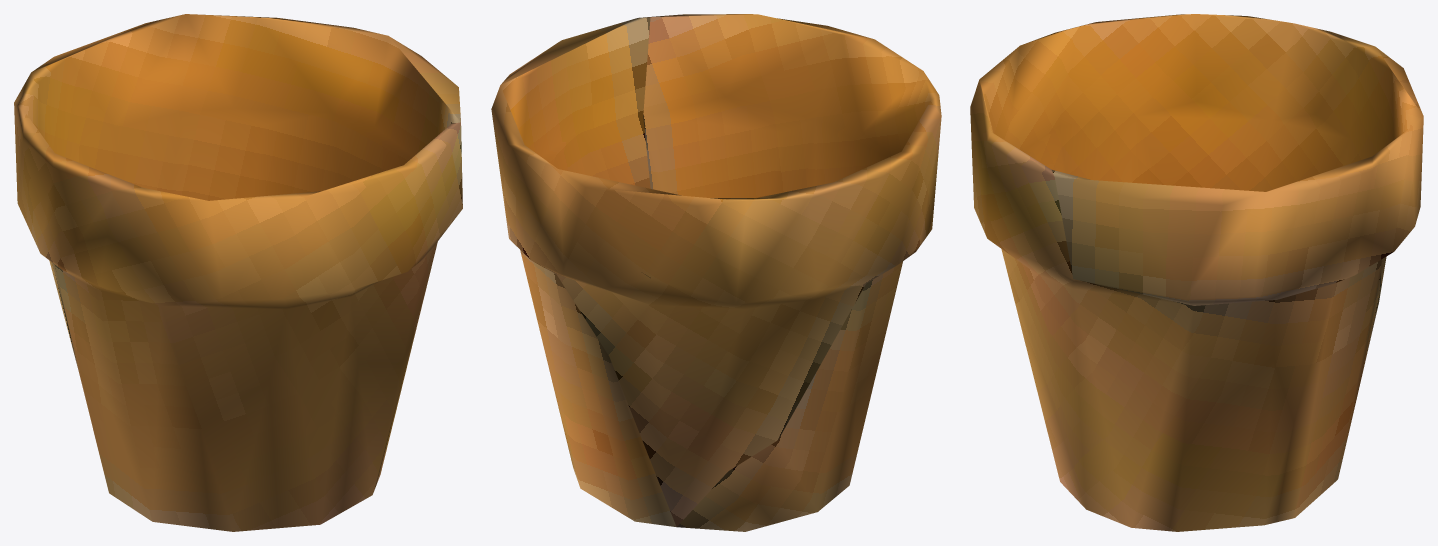
The model's file is Cole_Hardware_Electric_Pot_Cabana_55-low.glb.
3 renders of one model, left to right at view 1: azimuth 30°, elevation 25°; view 2: azimuth 150°, elevation 25°; view 3: azimuth 270°, elevation 25°, orthographic.
Parts seen in each view (by area): view 1: Cole_Hardware_Electric_Pot_Cabana_55; view 2: Cole_Hardware_Electric_Pot_Cabana_55; view 3: Cole_Hardware_Electric_Pot_Cabana_55.
Boxes of the visible parts, left/top/right/bottom form: Cole_Hardware_Electric_Pot_Cabana_55: left=14, top=14, right=462, bottom=531; Cole_Hardware_Electric_Pot_Cabana_55: left=491, top=14, right=941, bottom=531; Cole_Hardware_Electric_Pot_Cabana_55: left=970, top=14, right=1423, bottom=531.
Bounding box in the file's own units: 0.1411 × 0.1296 × 0.1414.
Materials: 1 (1 with a texture image).
